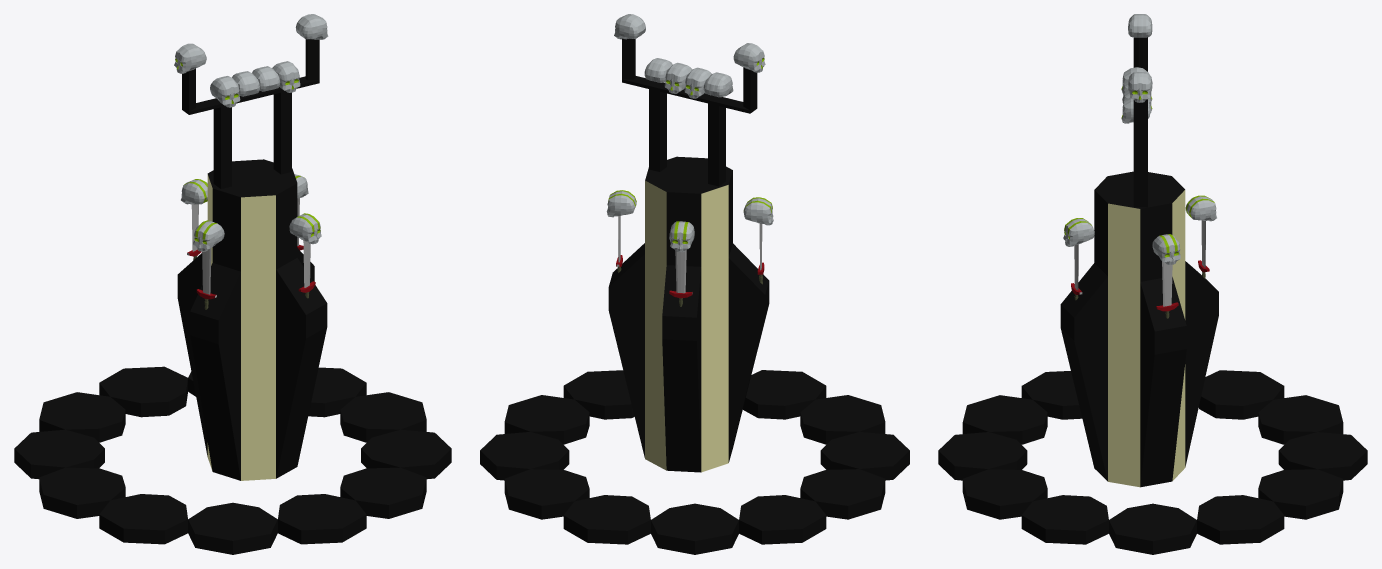
File: Totem2.fbx
The picture shows the model from 3 angles, left to right: view 1: azimuth 30°, elevation 25°; view 2: azimuth 150°, elevation 25°; view 3: azimuth 270°, elevation 25°; orthographic projection.
Visible parts, largest first — view 1: Cube.036, Cylinder.004; view 2: Cube.036, Cylinder.004; view 3: Cube.036, Cylinder.004.
Boxes of the visible parts, x1=… form: Cube.036: x1=174, y1=14, x2=328, y2=480; Cylinder.004: x1=14, y1=366, x2=451, y2=554; Cube.036: x1=606, y1=14, x2=773, y2=472; Cylinder.004: x1=480, y1=370, x2=909, y2=554; Cube.036: x1=1060, y1=14, x2=1218, y2=487; Cylinder.004: x1=938, y1=370, x2=1367, y2=554.
Size of the model in its own units: 346 by 378 by 346.
